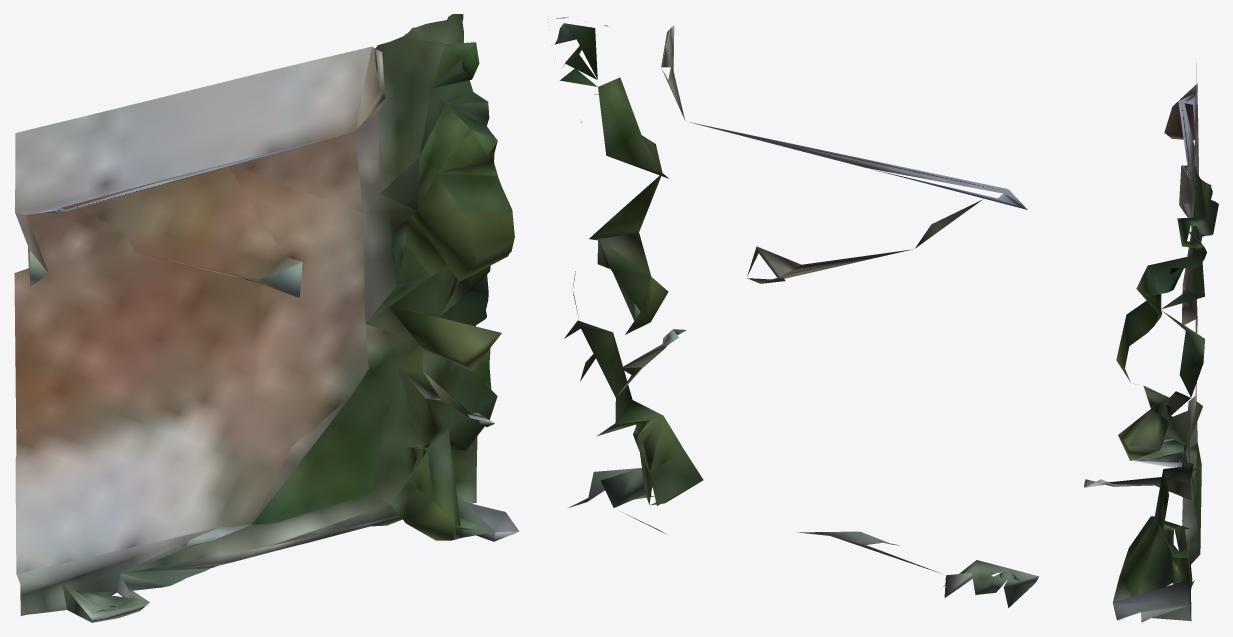
The model's file is Tile_+006_+007.glb.
3 views of the same model, side by side, from view 1: azimuth 30°, elevation 25°; view 2: azimuth 150°, elevation 25°; view 3: azimuth 270°, elevation 25° (orthographic). The views are drawn at different scales.
Size of the model in its own units: 50.41 by 50.4 by 14.83.
Materials: 1 (1 with a texture image).
